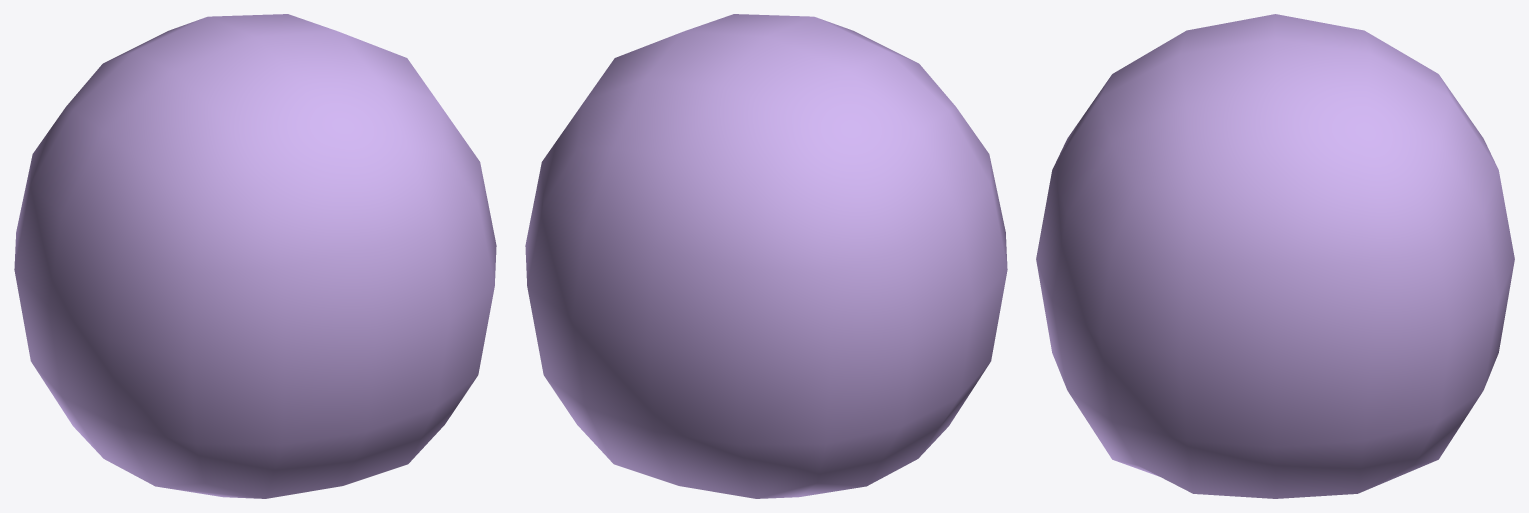
File: Bedroom3_lamp2.fbx
3 views of the same model, side by side, from view 1: azimuth 30°, elevation 25°; view 2: azimuth 150°, elevation 25°; view 3: azimuth 270°, elevation 25° (orthographic).
Parts seen in each view (by area): view 1: Bedroom3_lamp2; view 2: Bedroom3_lamp2; view 3: Bedroom3_lamp2.
Part boxes in pixels (bbox=[...]): Bedroom3_lamp2: bbox=[14, 14, 496, 498]; Bedroom3_lamp2: bbox=[525, 14, 1007, 498]; Bedroom3_lamp2: bbox=[1036, 14, 1514, 498].
Bounding box in the file's own units: 41.76 × 39.37 × 41.76.
